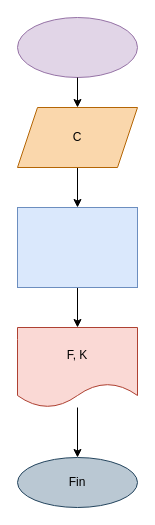
The diagram is 155 pixels wide and 525 high, and some of its shapes have lost their labels. The shapes that lost their labels are listed below. From the top down, each one's box as (x1, y1, x2, y2) in pixels, then its label:
(16, 16, 138, 78): Inicio
(16, 206, 138, 288): F = 1.8*C + 32 K = C + 273.15 Ra = C*1.8+491.67 Re = C*0.8
